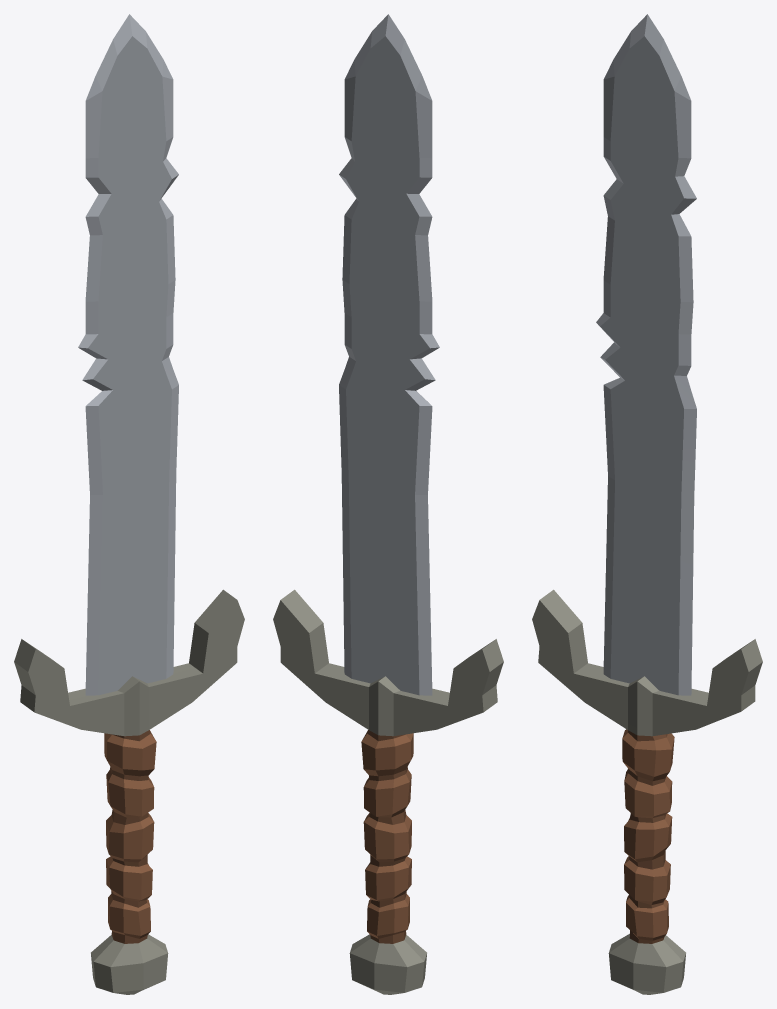
The model's file is SM_Sword_02.fbx.
3 views of the same model, side by side, from view 1: azimuth 30°, elevation 25°; view 2: azimuth 150°, elevation 25°; view 3: azimuth 330°, elevation 25° (orthographic).
Parts seen in each view (by area): view 1: SM_Sword_02; view 2: SM_Sword_02; view 3: SM_Sword_02.
Part boxes in pixels (x1,y1,x2,y2): SM_Sword_02: (14, 14, 244, 994); SM_Sword_02: (273, 14, 503, 994); SM_Sword_02: (532, 14, 762, 994).
Bounding box in the file's own units: 53.44 × 230 × 12.22.
